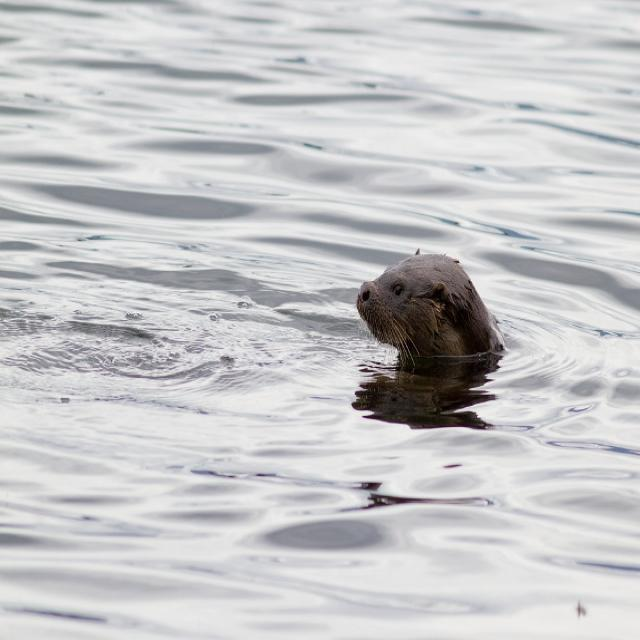otter: (353, 247, 505, 361)
